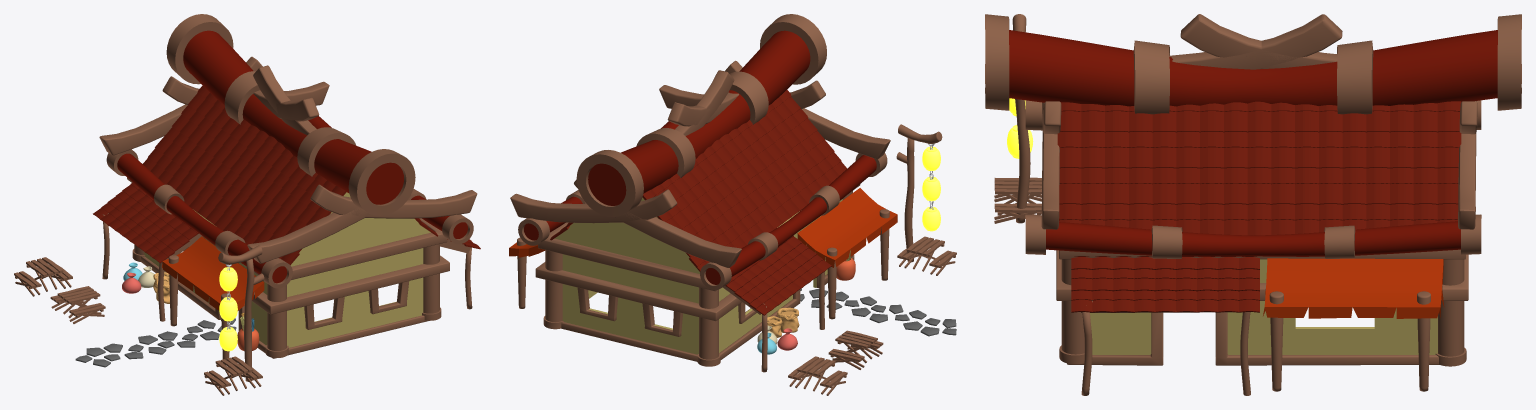
3 renders of one model, left to right at view 1: azimuth 30°, elevation 25°; view 2: azimuth 150°, elevation 25°; view 3: azimuth 270°, elevation 25°, orthographic. The views are drawn at different scales.
Parts seen in each view (by area): view 1: Cube.252; view 2: Cube.252; view 3: Cube.252.
Part boxes in pixels (<box>): Cube.252: <box>14,14,480,395</box>; Cube.252: <box>509,14,956,395</box>; Cube.252: <box>985,14,1521,395</box>.
Size of the model in its own units: 251 by 139 by 230.
